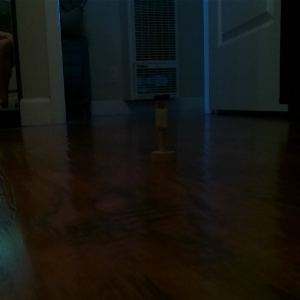traffic light red: (150, 93, 176, 163)
